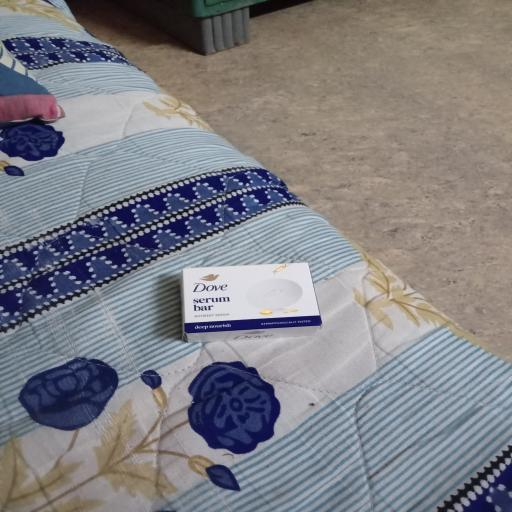Dove`1: (177, 265, 334, 337)
